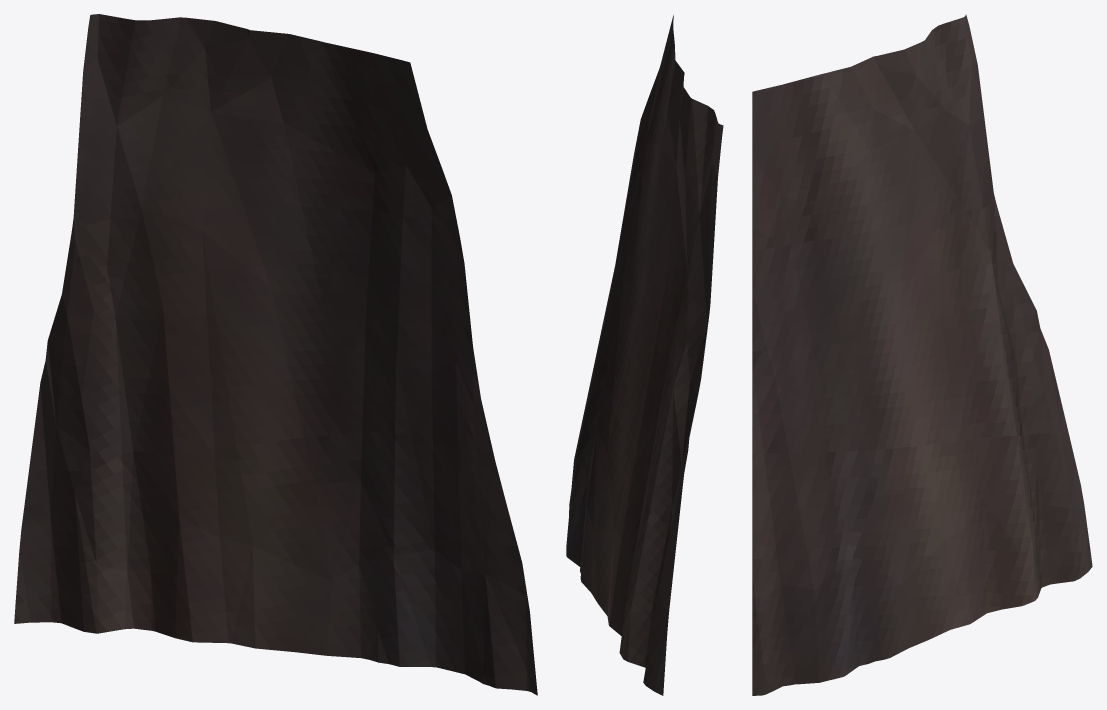
The picture shows the model from 3 angles, left to right: view 1: azimuth 30°, elevation 25°; view 2: azimuth 150°, elevation 25°; view 3: azimuth 270°, elevation 25°; orthographic projection. The views are drawn at different scales.
Bounding box in the file's own units: 21.53 × 42.87 × 23.92.
1 material, 1 textured.
